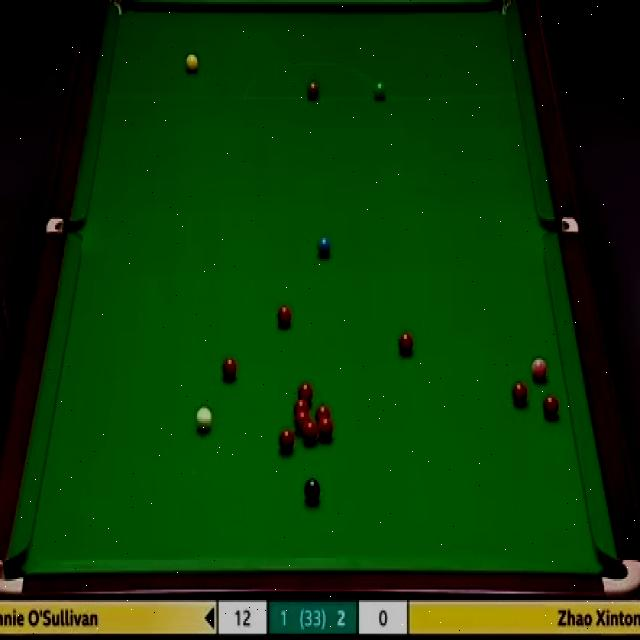black-ball: (305, 476, 320, 505)
blue-ball: (316, 235, 332, 257)
brown-ball: (306, 80, 320, 101)
green-ball: (374, 82, 386, 100)
pink-ball: (531, 356, 548, 383)
red-ball: (221, 356, 239, 384), (541, 396, 558, 422), (317, 417, 334, 443), (277, 428, 294, 453), (513, 382, 530, 406), (399, 331, 414, 356), (276, 306, 293, 328), (303, 420, 317, 444), (296, 382, 314, 400), (295, 412, 309, 432), (294, 398, 308, 415), (316, 407, 330, 421)
white-ball: (194, 406, 211, 432)
yellow-ball: (186, 54, 200, 76)
